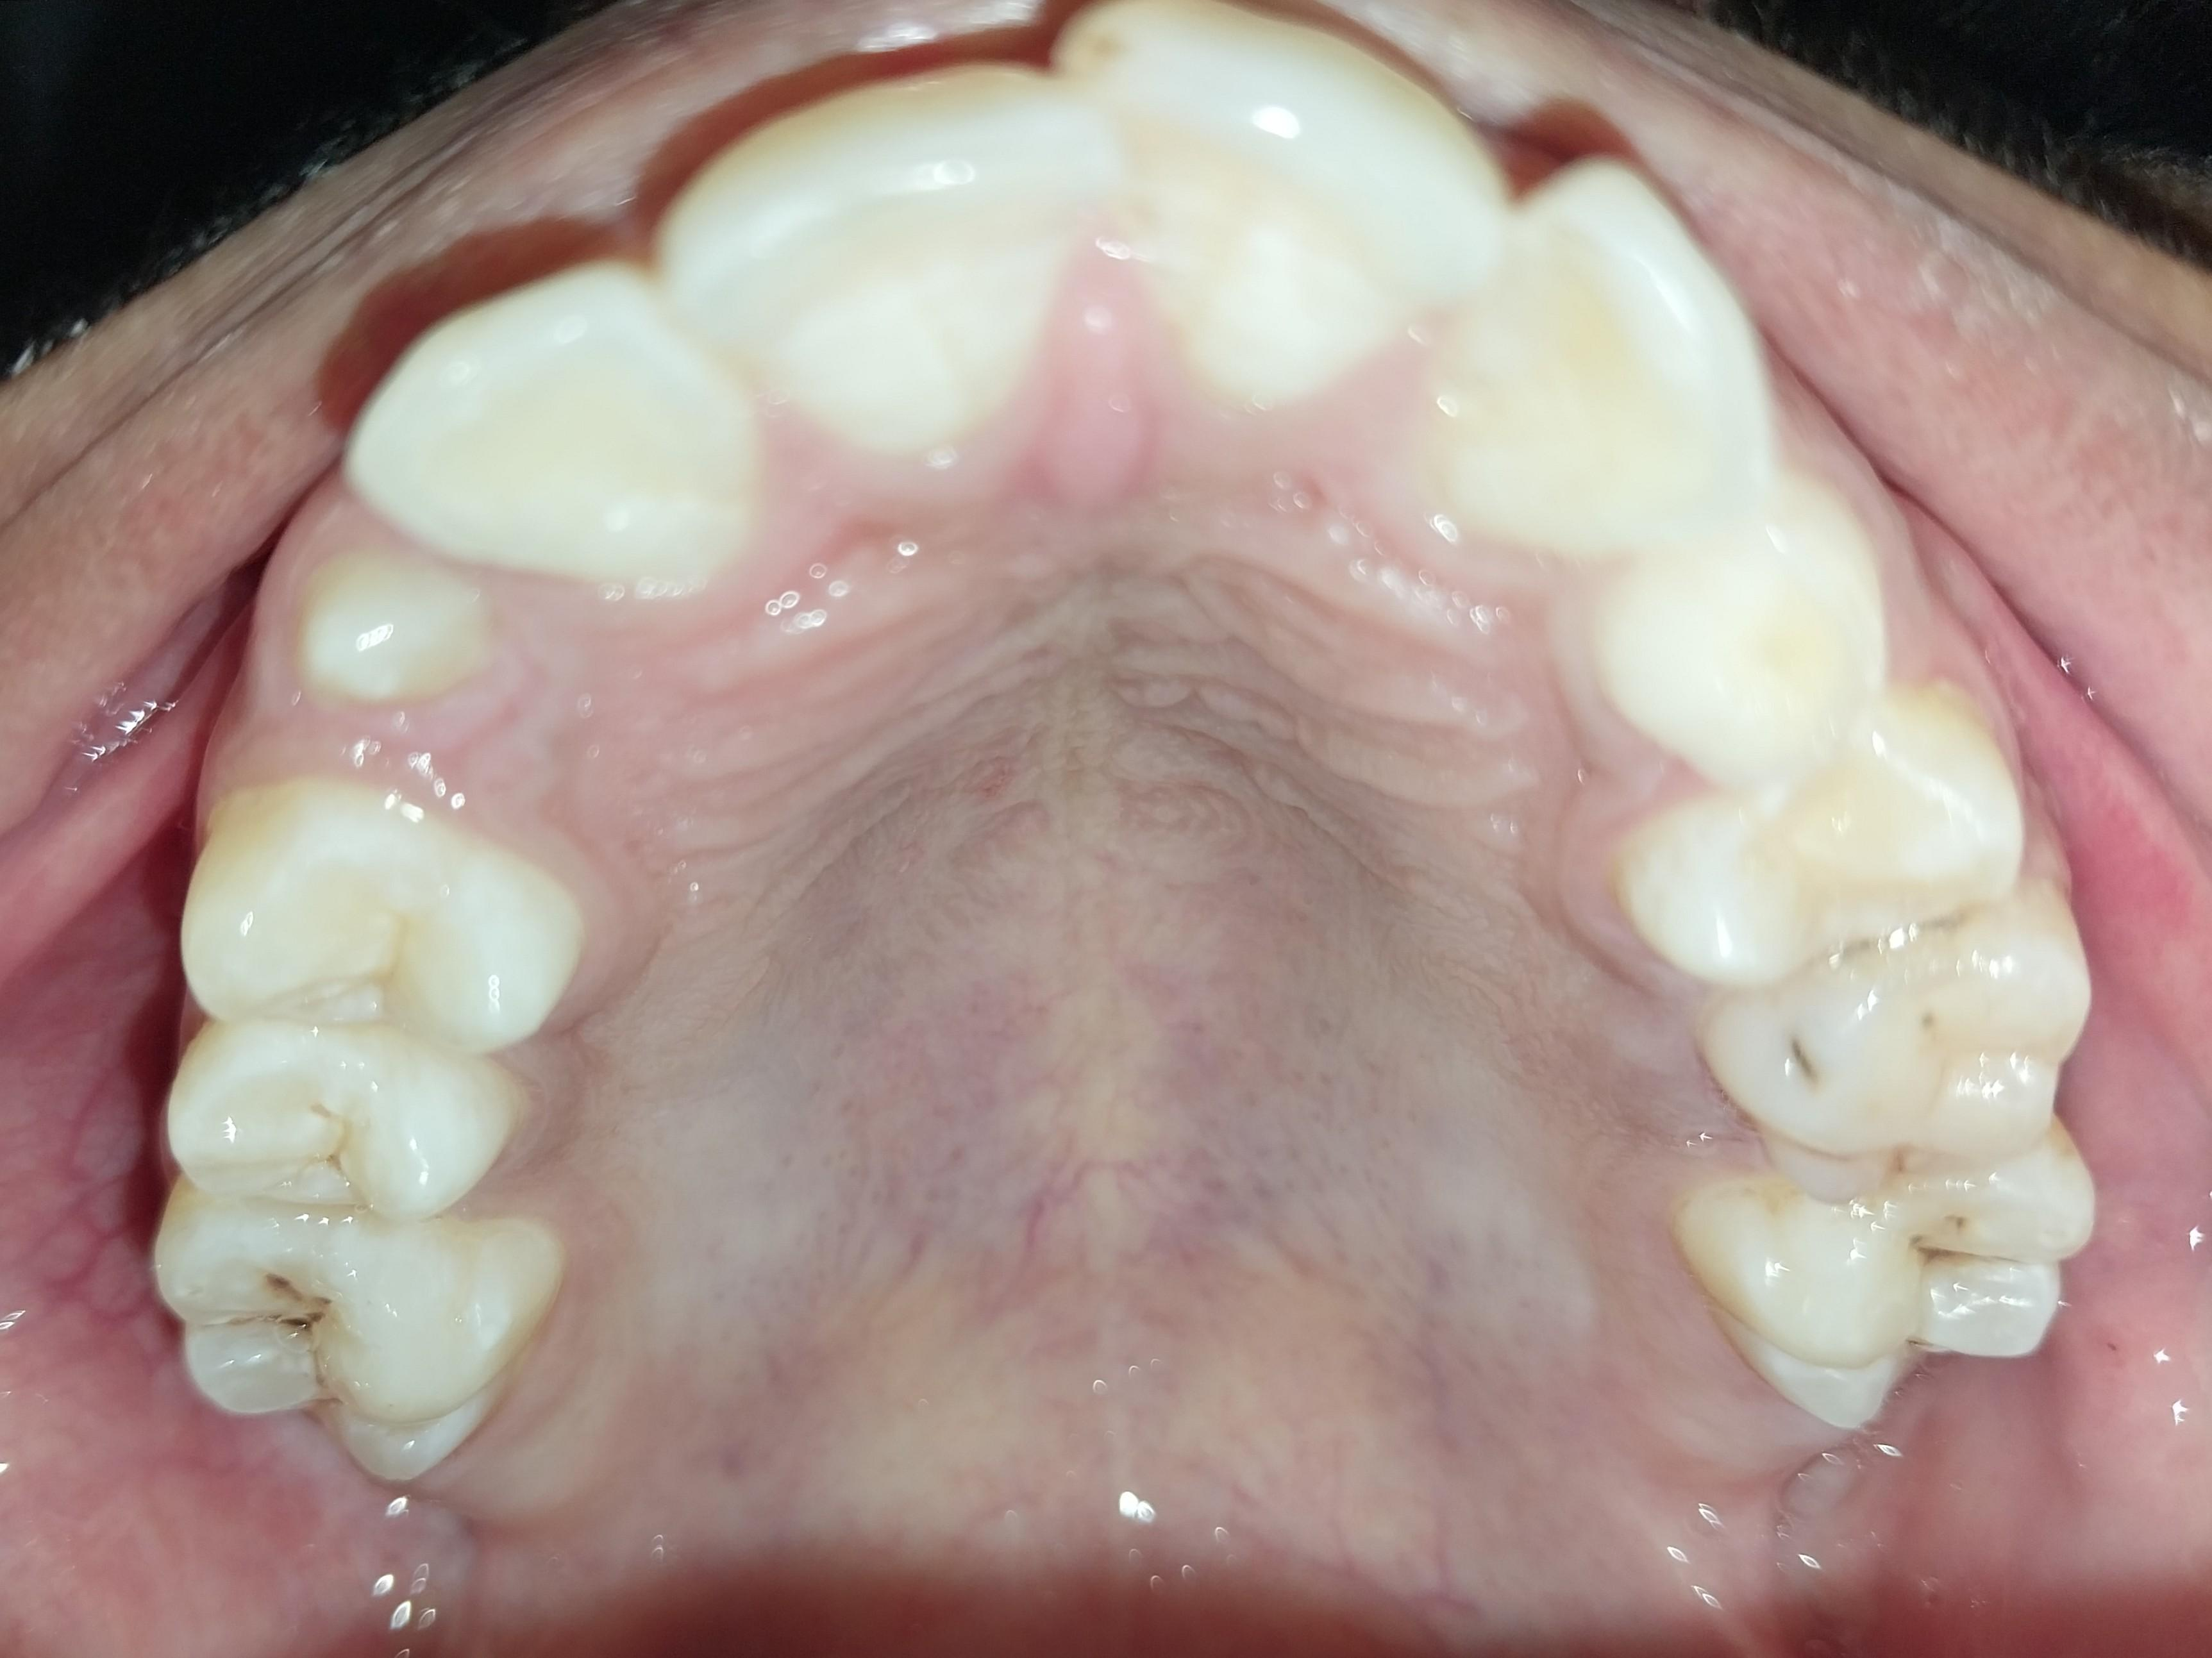D: (151, 1189, 548, 1485), (1702, 1134, 2086, 1430)
d: (1716, 900, 2084, 1183)
